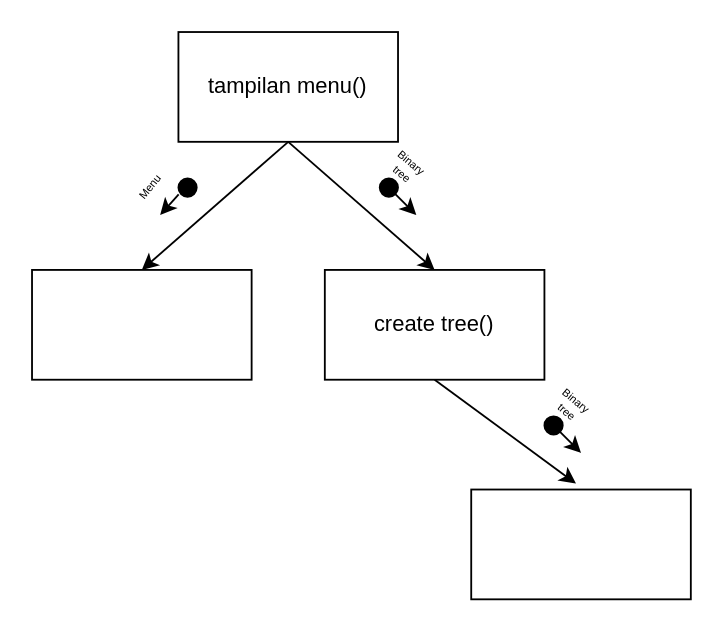
Some shapes in this 723 by 631 pixel diagram are drawn without their labels. The shapes that lost their labels are listed below. From the top down, each one's centre as x and y in pixels, then its label:
At (141,324): "menu Panduan()".
At (580,543): "print tree()".
